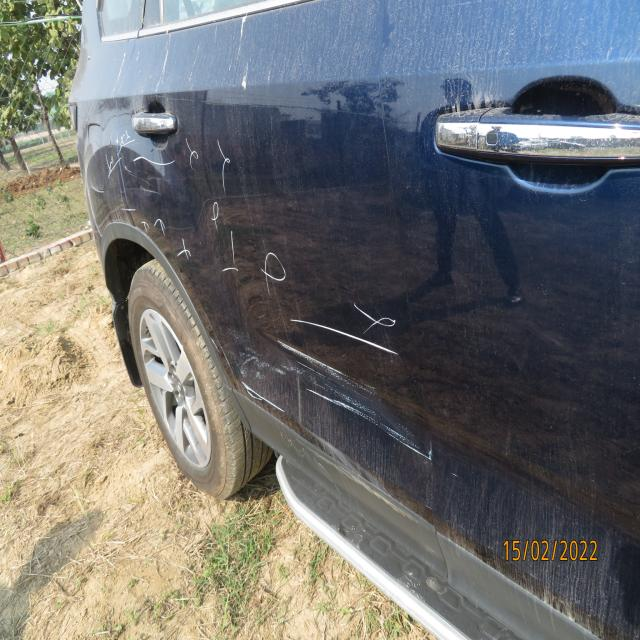damage: (240, 310, 445, 469), (124, 165, 167, 200)
